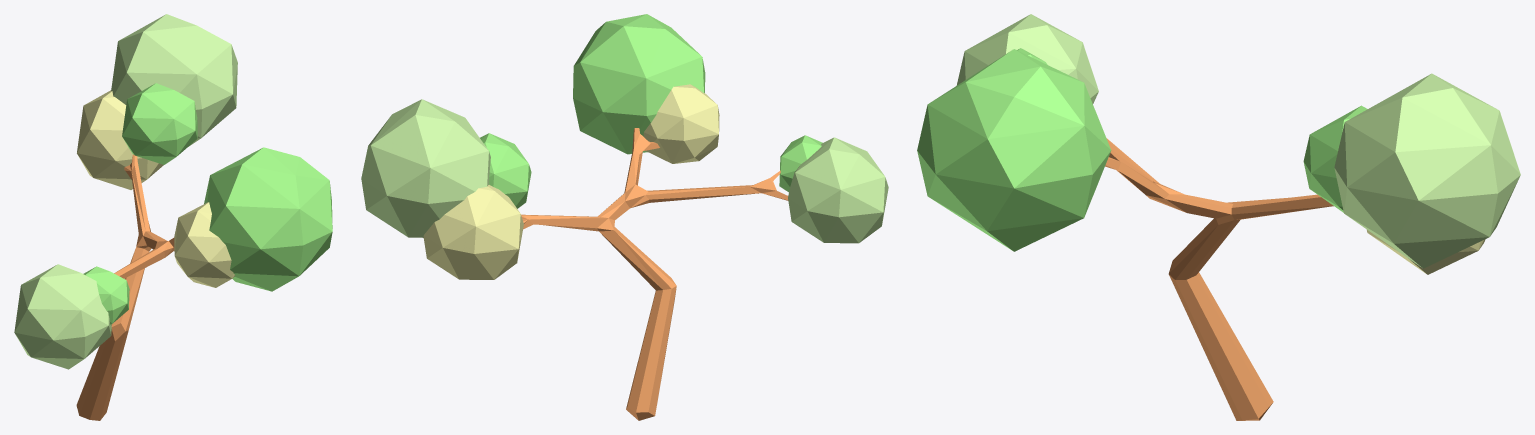
The model's file is finaltree.gltf.
The picture shows the model from 3 angles, left to right: view 1: azimuth 30°, elevation 25°; view 2: azimuth 150°, elevation 25°; view 3: azimuth 270°, elevation 25°; orthographic projection. The views are drawn at different scales.
Visible parts, largest first — view 1: Icosphere.003, Icosphere.007, Icosphere.005, Cube, Icosphere.002, Icosphere.006, Icosphere, Icosphere.001; view 2: Icosphere.007, Icosphere.003, Cube, Icosphere.005, Icosphere.006, Icosphere, Icosphere.002, Icosphere.001; view 3: Icosphere.003, Icosphere.007, Cube, Icosphere.005, Icosphere.002, Icosphere.006.
Boxes of the visible parts, x1,y1,x2,y2 form: Icosphere.003: [204, 147, 332, 291]; Icosphere.007: [111, 14, 237, 146]; Icosphere.005: [14, 264, 111, 369]; Cube: [76, 154, 174, 420]; Icosphere.002: [122, 83, 197, 164]; Icosphere.006: [77, 90, 163, 189]; Icosphere: [174, 202, 234, 287]; Icosphere.001: [83, 266, 129, 324]; Icosphere.007: [361, 99, 490, 237]; Icosphere.003: [573, 14, 705, 154]; Cube: [521, 128, 788, 420]; Icosphere.005: [788, 137, 888, 243]; Icosphere.006: [423, 185, 523, 279]; Icosphere: [643, 84, 719, 163]; Icosphere.002: [480, 133, 531, 208]; Icosphere.001: [779, 135, 822, 192]; Icosphere.003: [917, 49, 1111, 251]; Icosphere.007: [1334, 73, 1520, 268]; Cube: [1105, 138, 1333, 420]; Icosphere.005: [956, 14, 1098, 103]; Icosphere.002: [1303, 105, 1367, 212]; Icosphere.006: [1367, 230, 1485, 274].
Bounding box in the file's own units: 5.93 × 4.9 × 6.21.
